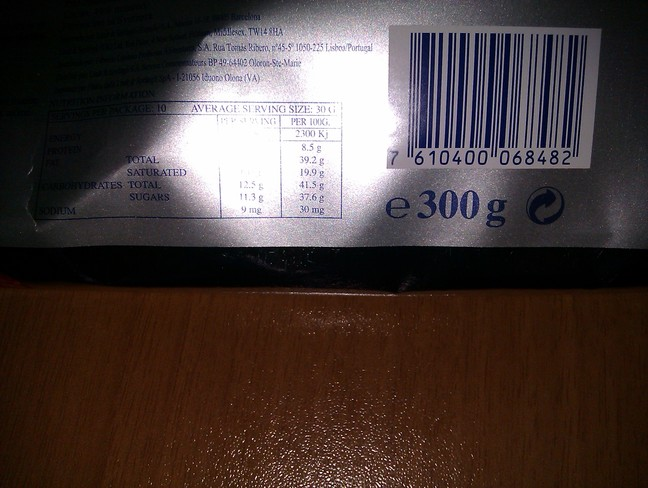barcode: (384, 23, 591, 172)
